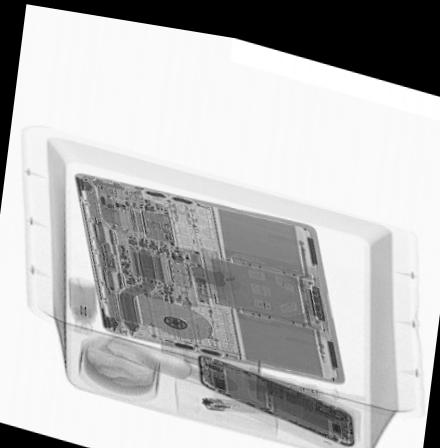Lighter: (200, 390, 276, 406)
